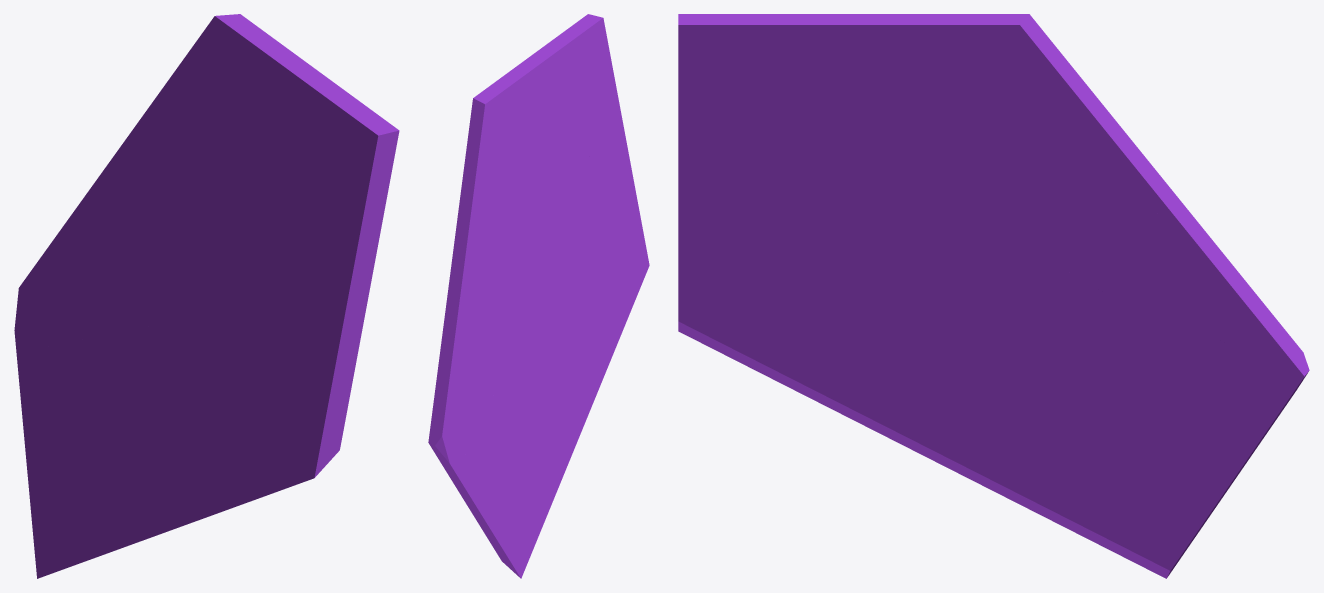
Rendered from Window_3_20_chunks.fbx.
3 views of the same model, side by side, from view 1: azimuth 30°, elevation 25°; view 2: azimuth 150°, elevation 25°; view 3: azimuth 270°, elevation 25° (orthographic). The views are drawn at different scales.
Visible parts, largest first — view 1: Window_3_20_0, Window_3_20_2, Window_3_20_6, Window_3_20_1, Window_3_20_5, Window_3_20_4, Window_3_20_3; view 2: Window_3_20_0, Window_3_20_2, Window_3_20_1, Window_3_20_6, Window_3_20_5, Window_3_20_4, Window_3_20_3; view 3: Window_3_20_0, Window_3_20_2, Window_3_20_6, Window_3_20_3, Window_3_20_5, Window_3_20_1, Window_3_20_4.
Boxes of the visible parts, x1,y1,x2,y2 form: Window_3_20_0: (135,241,376,542); Window_3_20_2: (16,325,156,578); Window_3_20_6: (231,21,399,250); Window_3_20_1: (14,144,167,352); Window_3_20_5: (122,14,250,195); Window_3_20_4: (204,177,363,281); Window_3_20_3: (129,164,215,291); Window_3_20_0: (525,94,649,467); Window_3_20_2: (428,329,566,578); Window_3_20_1: (428,261,526,473); Window_3_20_6: (481,14,616,176); Window_3_20_5: (453,90,532,266); Window_3_20_4: (528,92,617,259); Window_3_20_3: (450,203,542,298); Window_3_20_0: (678,137,1013,490); Window_3_20_2: (978,276,1304,578); Window_3_20_6: (678,14,997,168); Window_3_20_3: (928,153,1166,289); Window_3_20_5: (966,14,1161,186); Window_3_20_1: (1066,174,1309,403); Window_3_20_4: (696,144,938,250).
Bounding box in the file's own units: 173 × 714 × 654.
